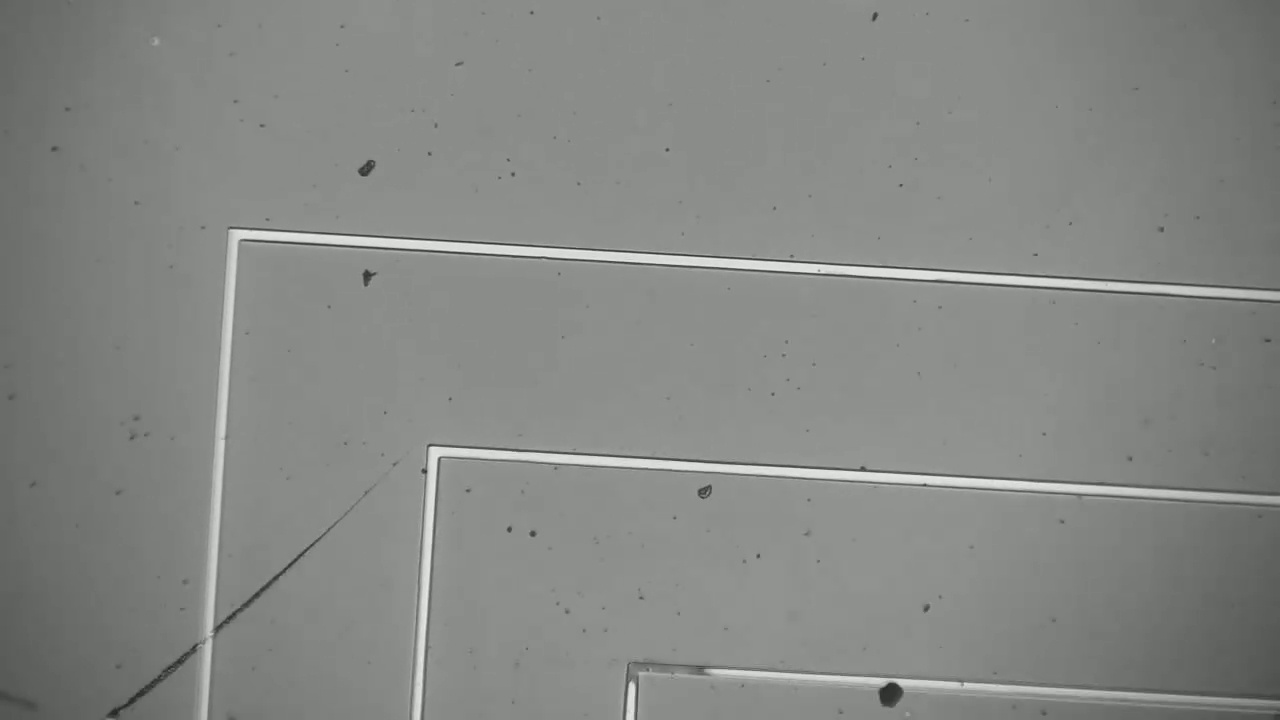gray_line: (610, 654, 730, 685), (620, 647, 651, 696)
scratch: (106, 468, 398, 719)
stains_enbedded: (860, 657, 925, 716)
